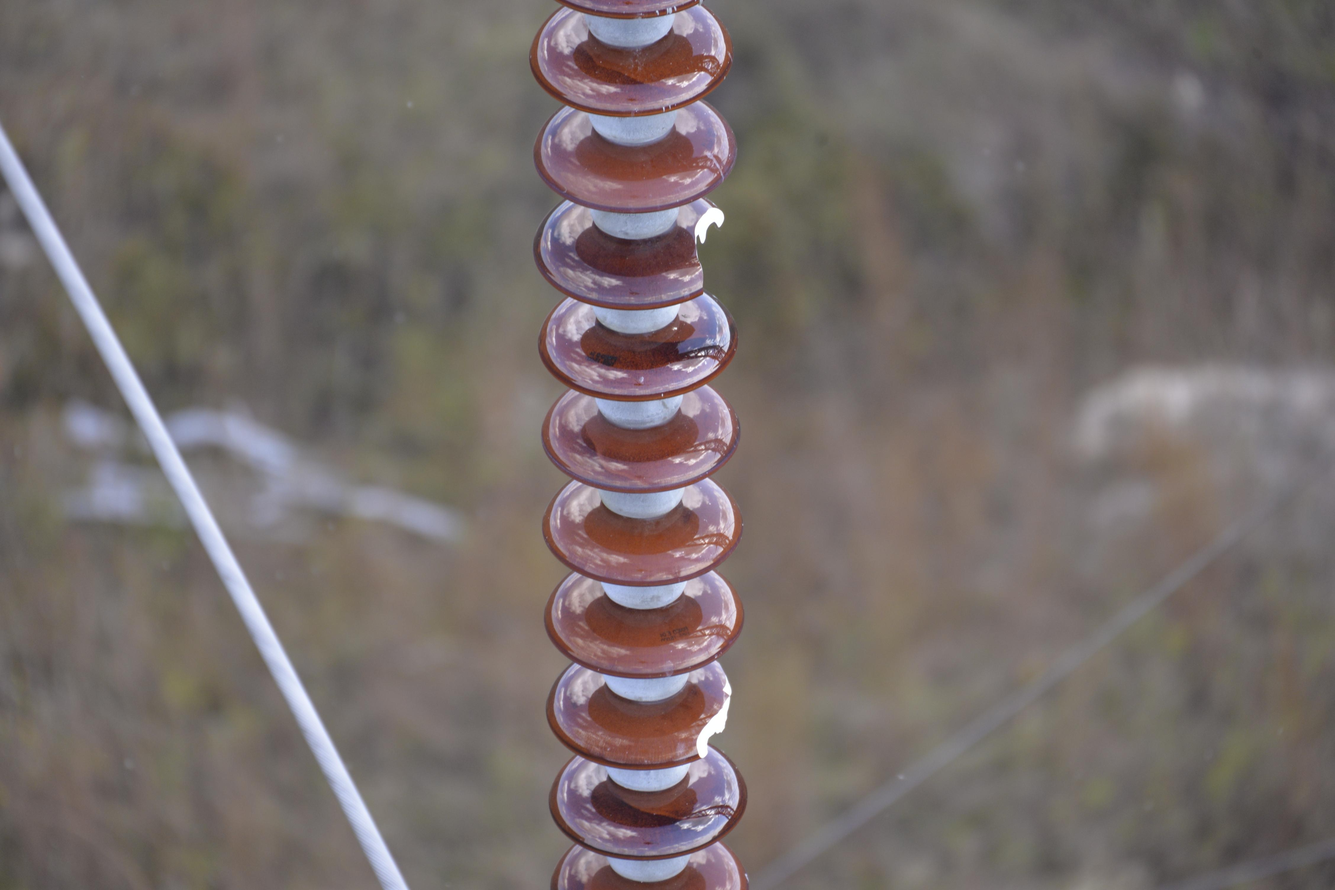damaged: (686, 660, 738, 765), (674, 200, 722, 300)
insulator: (531, 0, 746, 890)
